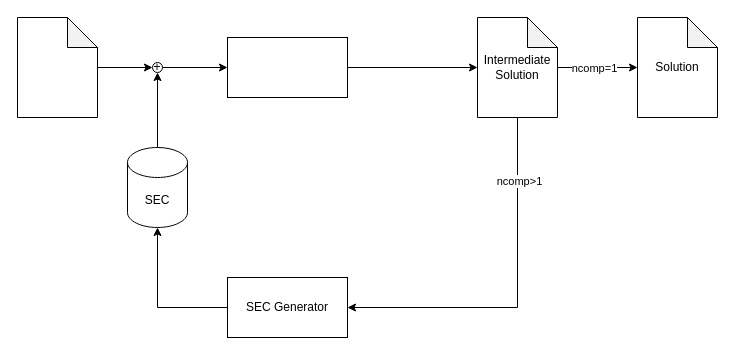
Some shapes in this 735 by 355 pixel diagram are drawn without their labels. The centre of each missing label's shape, as x and y in pixels:
"ILP" belongs at pixel 57 67.
"MIP Solver" belongs at pixel 287 67.
